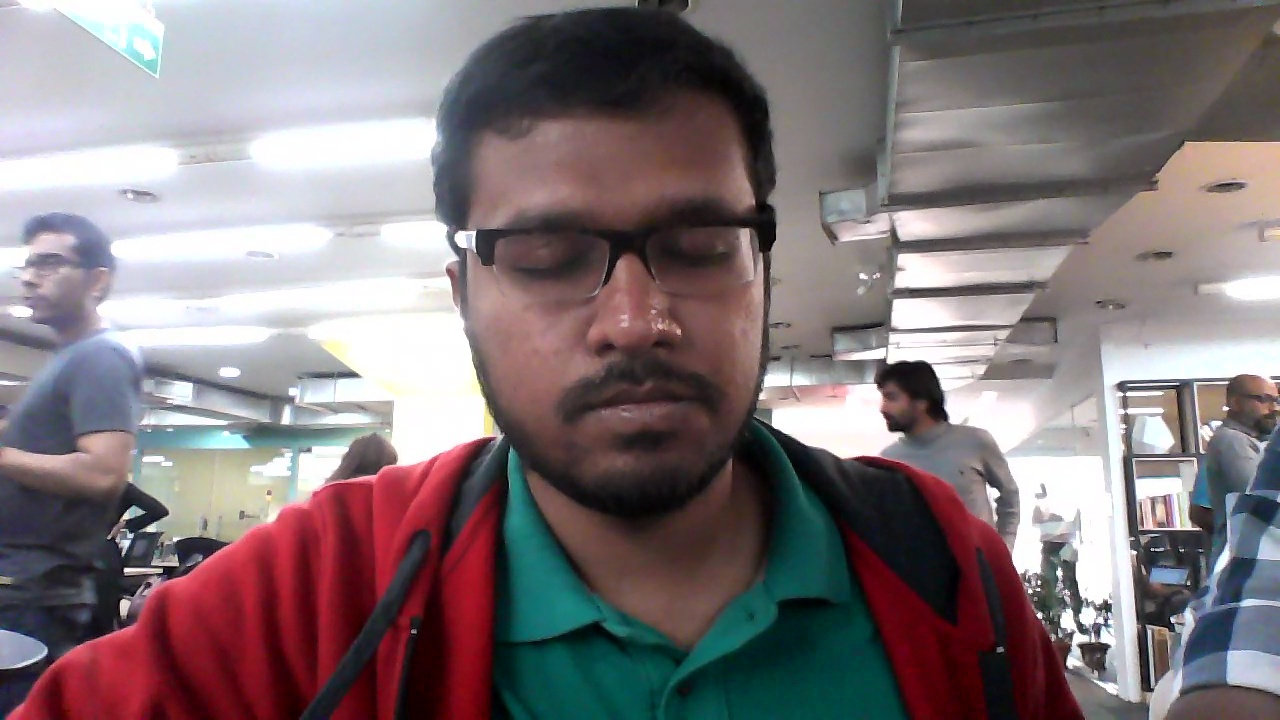closed: (432, 11, 791, 542)
